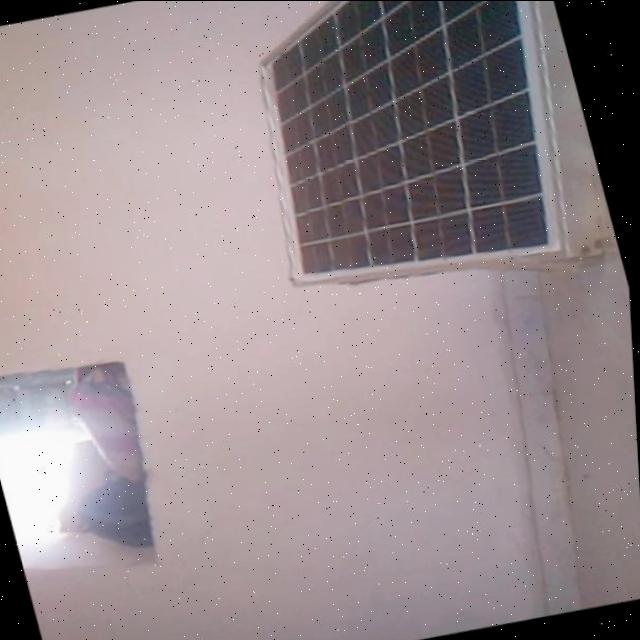Normal Solar Panel: (235, 0, 593, 293)
